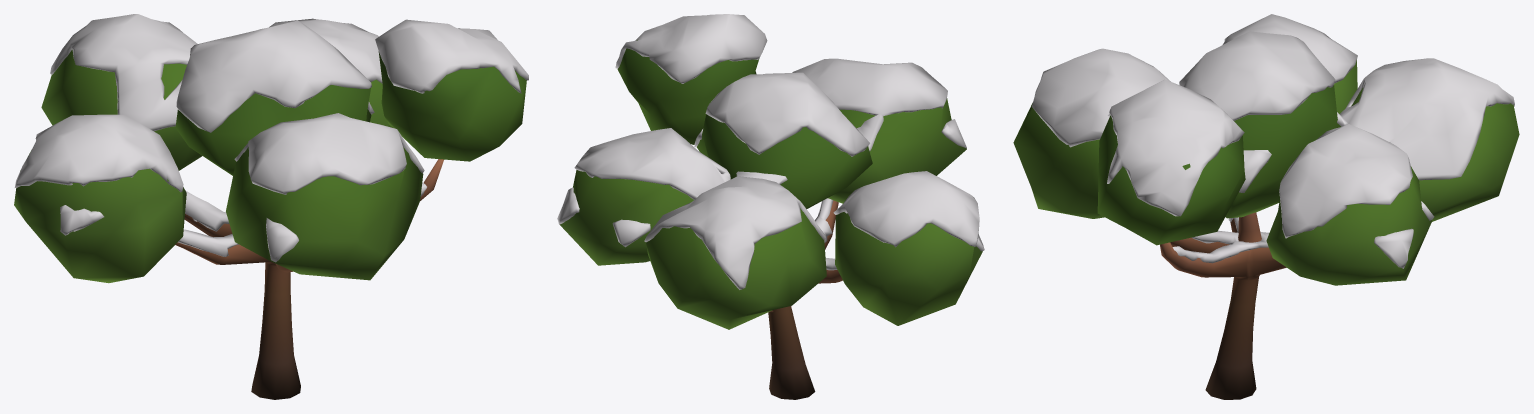
The model's file is TreeSnowy_5.fbx.
3 views of the same model, side by side, from view 1: azimuth 30°, elevation 25°; view 2: azimuth 150°, elevation 25°; view 3: azimuth 270°, elevation 25° (orthographic). The views are drawn at different scales.
Visible parts, largest first — view 1: TreeSnowy_5; view 2: TreeSnowy_5; view 3: TreeSnowy_5.
Boxes of the visible parts, left/top/right/bottom form: TreeSnowy_5: left=14, top=14, right=528, bottom=399; TreeSnowy_5: left=557, top=14, right=984, bottom=399; TreeSnowy_5: left=1013, top=14, right=1519, bottom=399.
Bounding box in the file's own units: 753 × 579 × 737.
